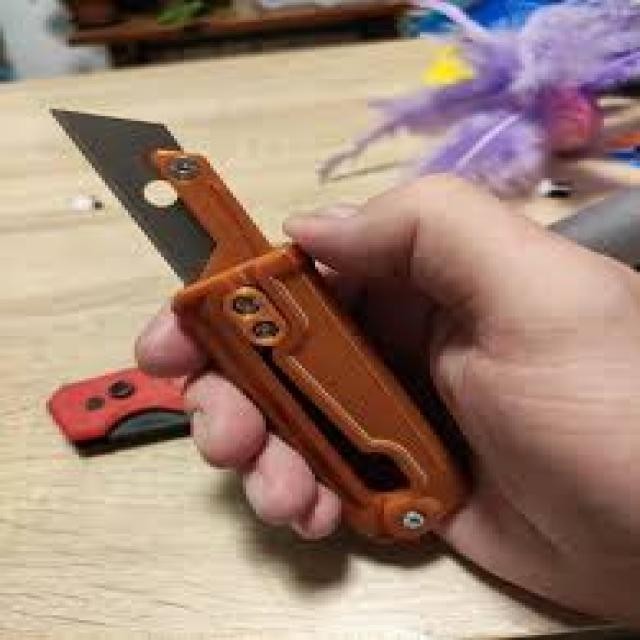cutter: (44, 98, 462, 549)
